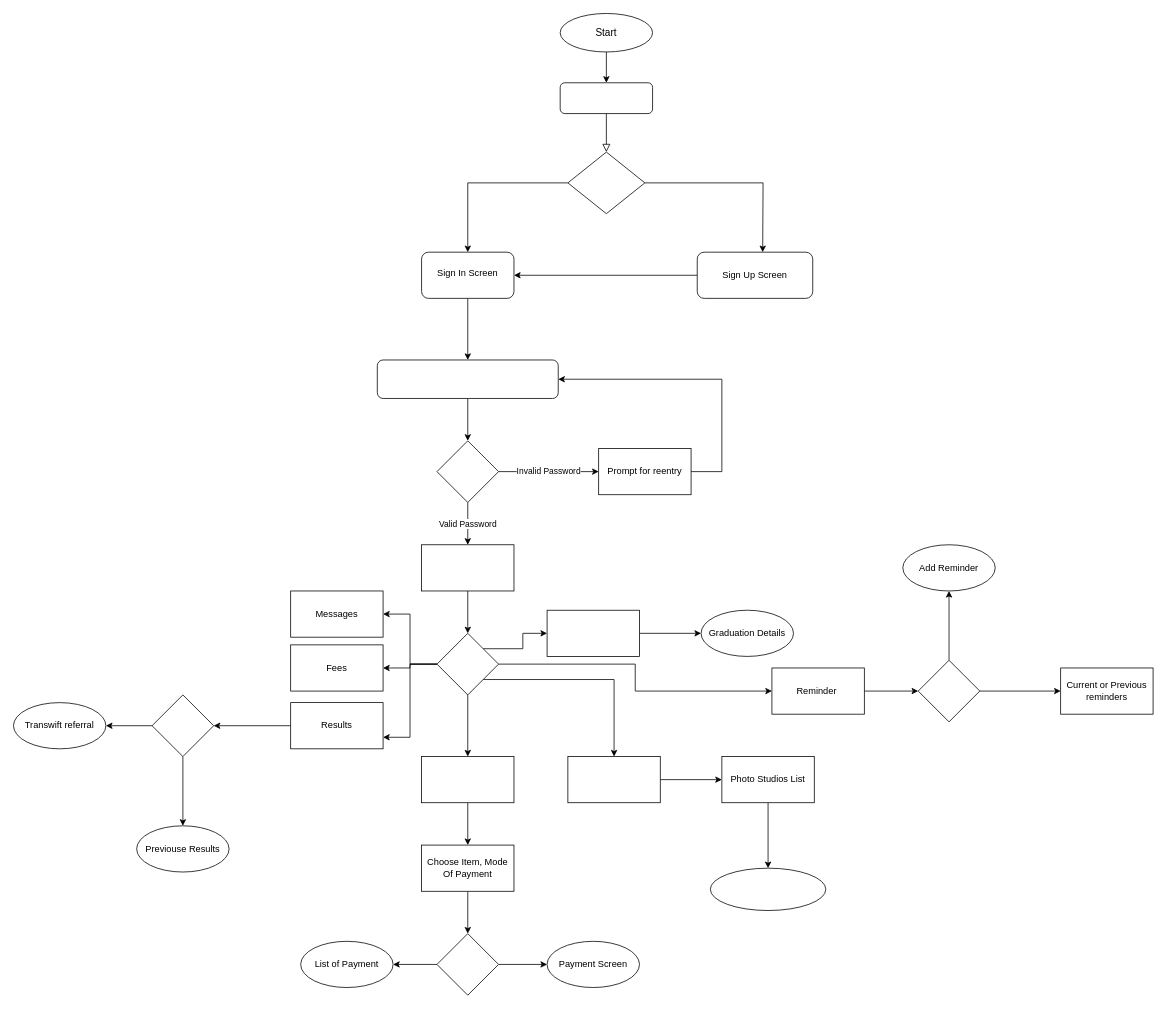
The diagram is 1167 pixels wide and 1009 high, and some of its shapes have lost their labels. The shapes that lost their labels are listed below. From the top down, each one's centre as x and y in pixels, then its label:
the point at 606,98: Splash Screen
the point at 606,182: Welcome Screen
the point at 467,378: Enter Email , Index Number and Password
the point at 467,567: Dashboard
the point at 592,632: My Graduation
the point at 467,779: Payment
the point at 613,779: Photoshoot
the point at 768,889: Photo Studio Details (Contact,Location,etc.)
